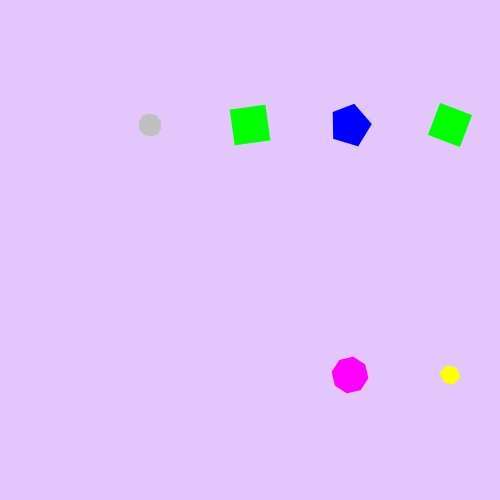decagon: (134, 110, 167, 140)
hexagon: (435, 362, 465, 388)
octagon: (328, 353, 373, 398)
pentagon: (326, 101, 374, 149)
quadrilateral: (222, 97, 279, 154), (423, 98, 478, 153)
